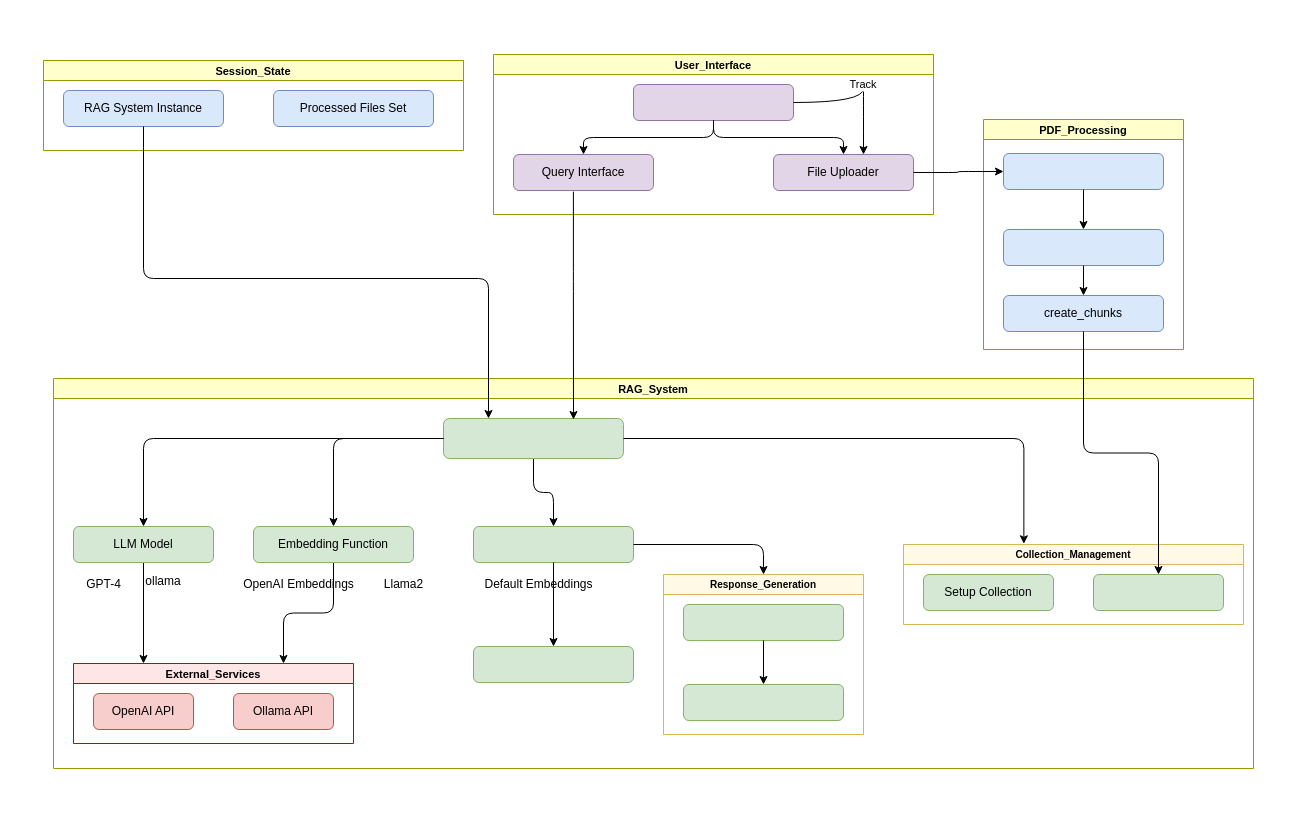
This 1307x827 diagram has some shape labels left out. Here are the shapes that lost their labels. From the top down, the centre of each, then its label:
At pixel 713 102: "Streamlit Web UI".
At pixel 1083 171: "SimplePDFProcessor".
At pixel 1083 247: "read_pdf".
At pixel 533 438: "SimpleRAGSystem".
At pixel 553 544: "Query Documents".
At pixel 1158 592: "Add Documents".
At pixel 763 622: "Generate Response".
At pixel 553 664: "ChromaDB Client".
At pixel 763 702: "Create Prompt".
